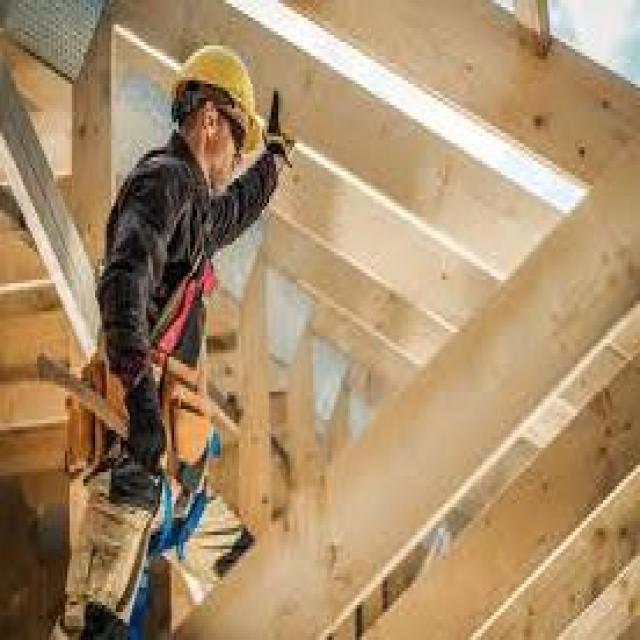reflective_jacket: (90, 153, 243, 395)
safety_helmet: (162, 35, 271, 147)
